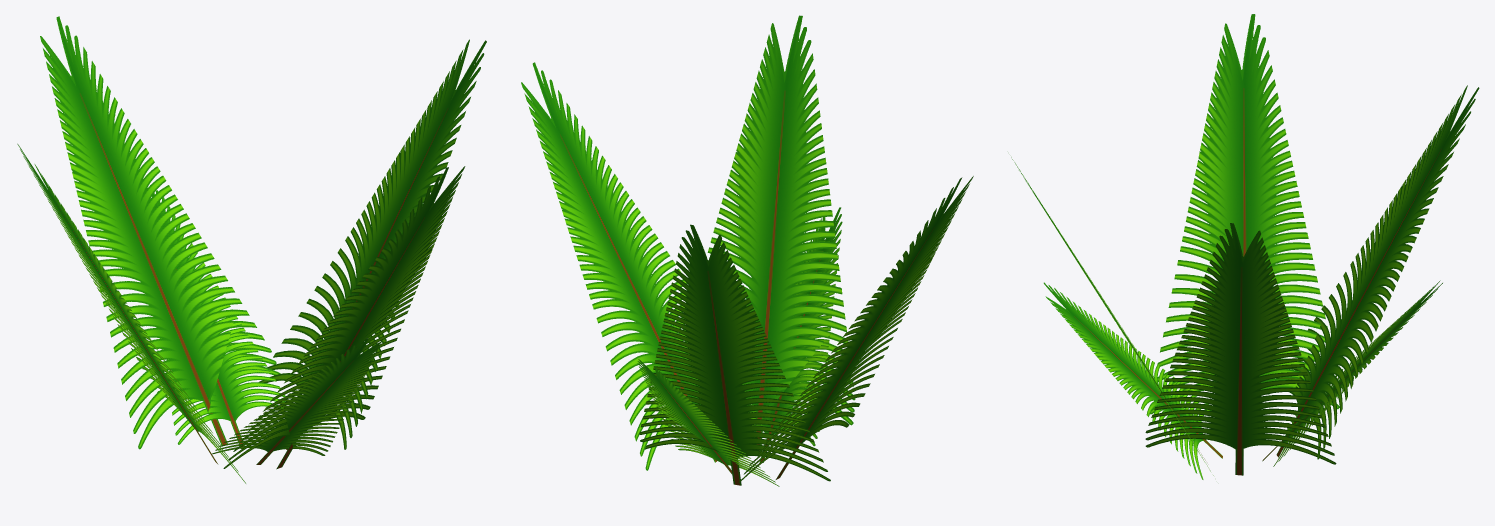
Rendered from Palm3_LOD2.fbx.
3 views of the same model, side by side, from view 1: azimuth 30°, elevation 25°; view 2: azimuth 150°, elevation 25°; view 3: azimuth 270°, elevation 25° (orthographic). The views are drawn at different scales.
Visible parts, largest first — view 1: Palm3_LOD2; view 2: Palm3_LOD2; view 3: Palm3_LOD2.
Part boxes in pixels (box(x1,y1,x2,y2)): Palm3_LOD2: box(17, 16, 486, 483); Palm3_LOD2: box(521, 15, 973, 486); Palm3_LOD2: box(1011, 14, 1479, 479).
Bounding box in the file's own units: 318 × 248 × 303.
